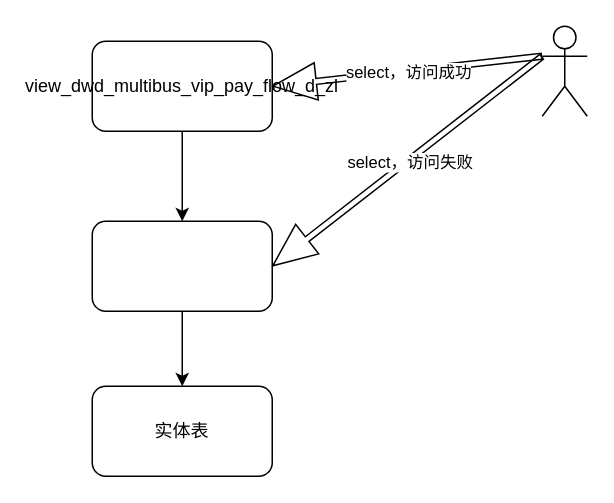
Image size: 614x503. Some labels were removed from this diagram. Here are the shapes that lost their labels. From the top down, the centre of each, then its label:
[564,70]: Actor
[181,265]: view_dwd_vpay_pay_flow_d
